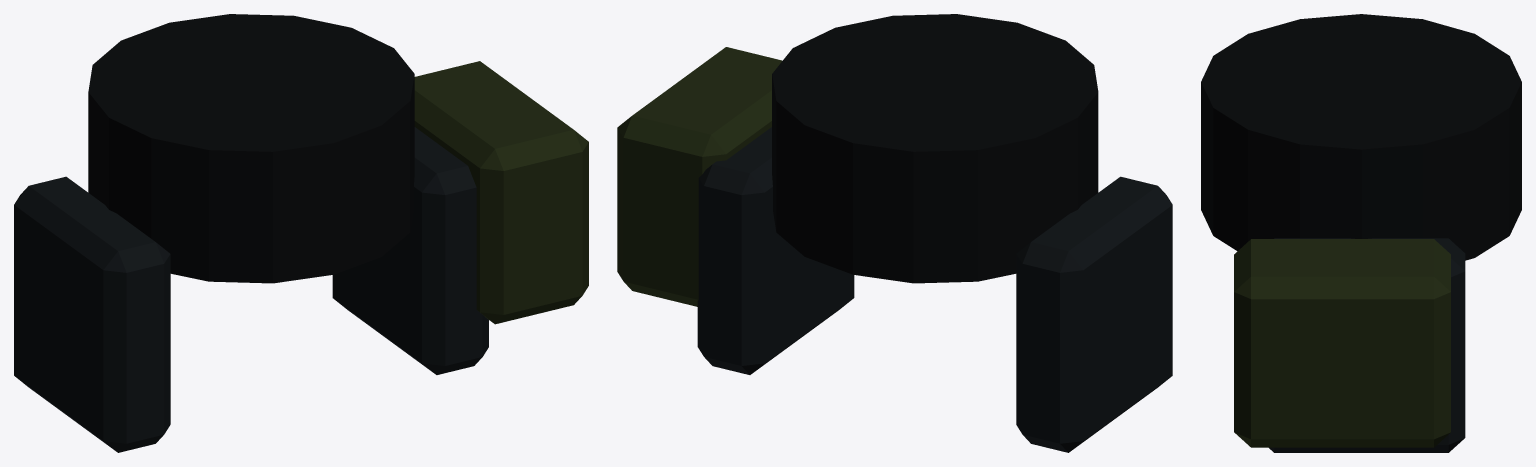
The model's file is ChinMount__Yaw.obj.
3 renders of one model, left to right at view 1: azimuth 30°, elevation 25°; view 2: azimuth 150°, elevation 25°; view 3: azimuth 270°, elevation 25°, orthographic. The views are drawn at different scales.
Visible parts, largest first — view 1: Yaw_motor, Elevation_cheek, Elevation_servo, Elevation_cheek.001; view 2: Yaw_motor, Elevation_cheek, Elevation_servo, Elevation_cheek.001; view 3: Yaw_motor, Elevation_servo, Elevation_cheek.001.
Part boxes in pixels (x1,y1,x2,y2): Yaw_motor: [88, 14, 414, 283]; Elevation_cheek: [14, 176, 170, 452]; Elevation_servo: [414, 61, 588, 324]; Elevation_cheek.001: [332, 127, 488, 374]; Yaw_motor: [772, 14, 1098, 283]; Elevation_cheek: [1016, 176, 1172, 452]; Elevation_servo: [617, 47, 782, 306]; Elevation_cheek.001: [697, 127, 854, 374]; Yaw_motor: [1201, 14, 1521, 260]; Elevation_servo: [1234, 239, 1450, 447]; Elevation_cheek.001: [1269, 238, 1465, 452].
Bounding box in the file's own units: 0.565 × 0.335 × 0.34.
